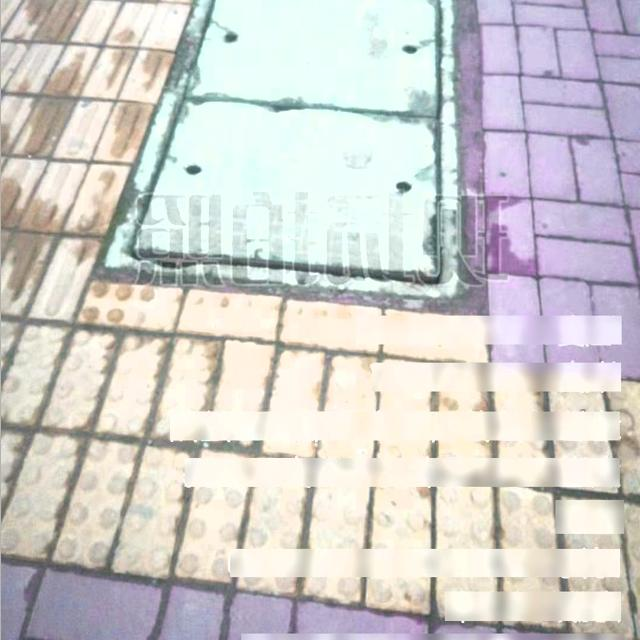good: (103, 0, 457, 293)
